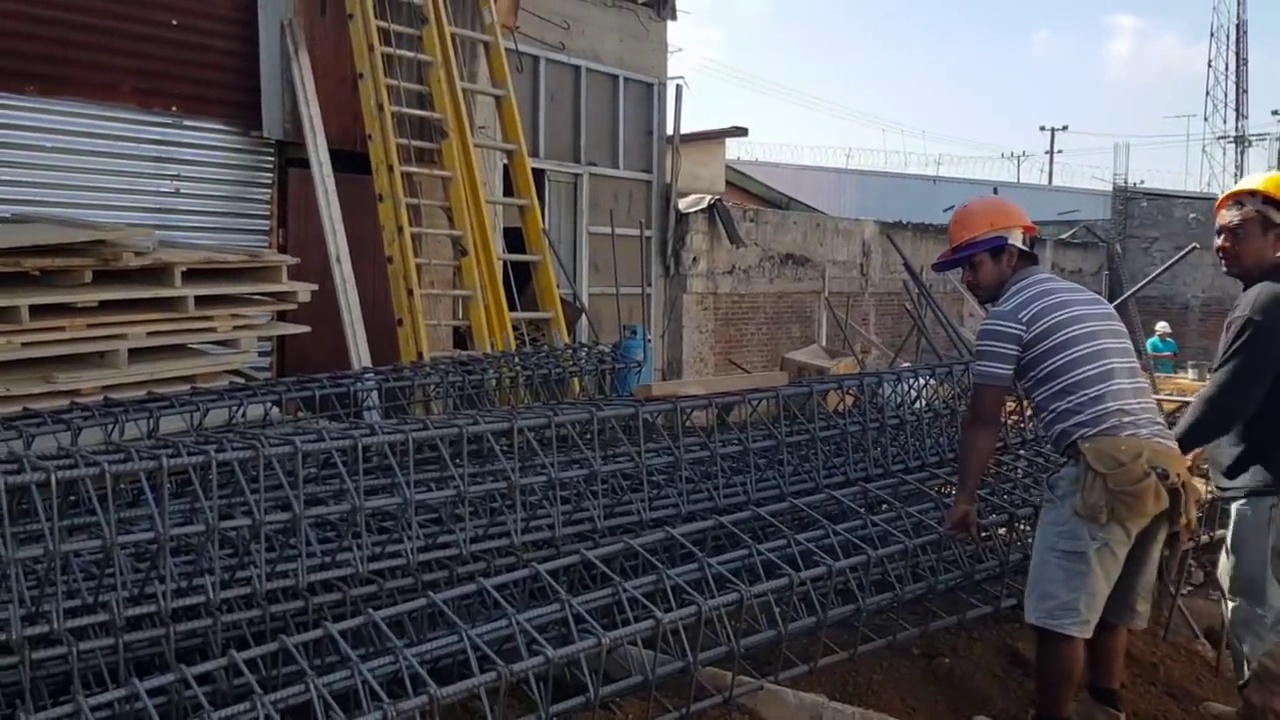helmet: (934, 184, 1041, 269), (1212, 168, 1280, 218), (1155, 322, 1174, 335)
helmet-on: (941, 194, 1047, 313), (1214, 169, 1279, 290), (1154, 322, 1174, 345)
person: (915, 187, 1200, 718), (1181, 166, 1280, 701), (1146, 323, 1182, 375)
